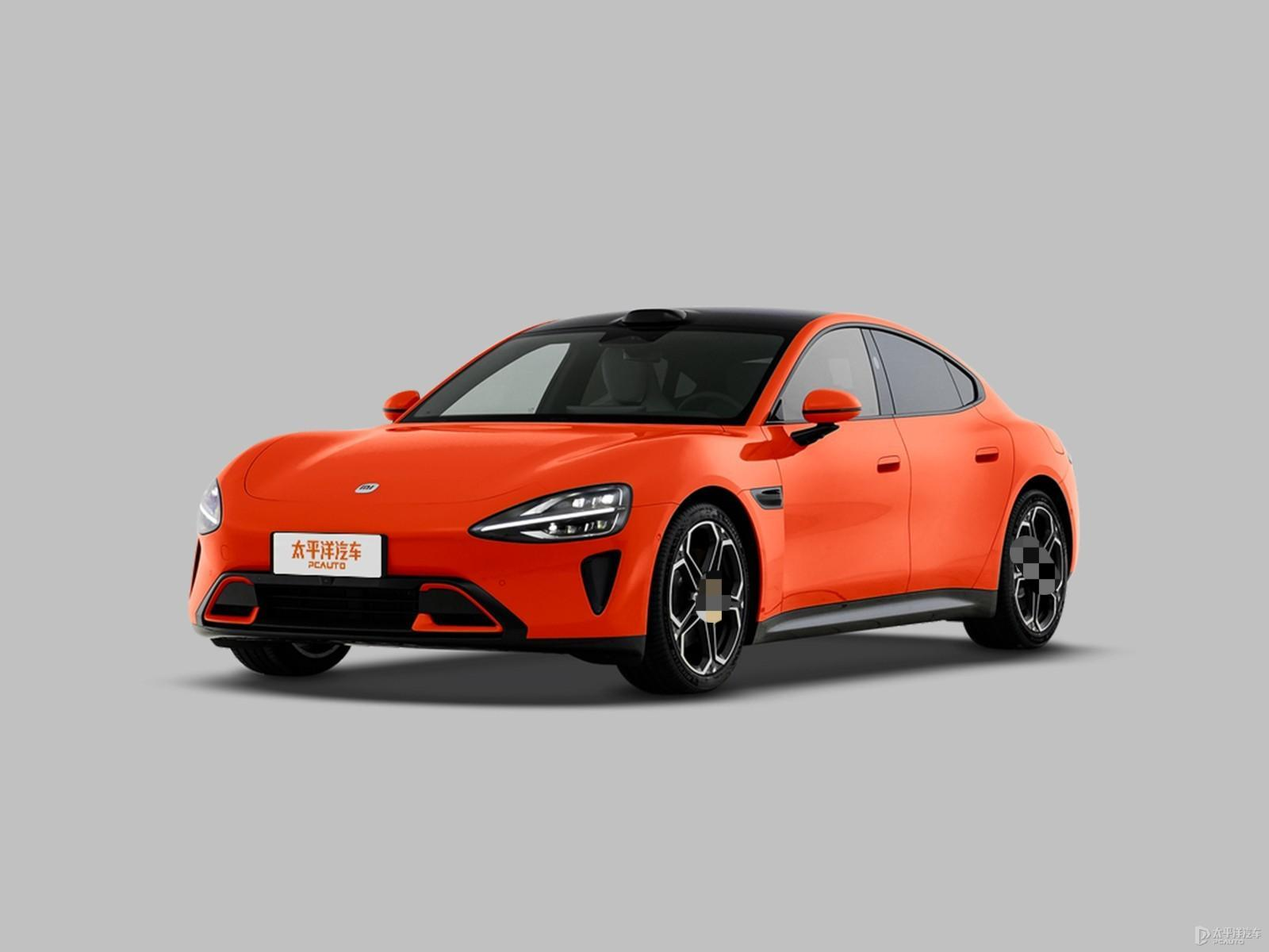XIAOMI: (355, 482, 380, 493)
